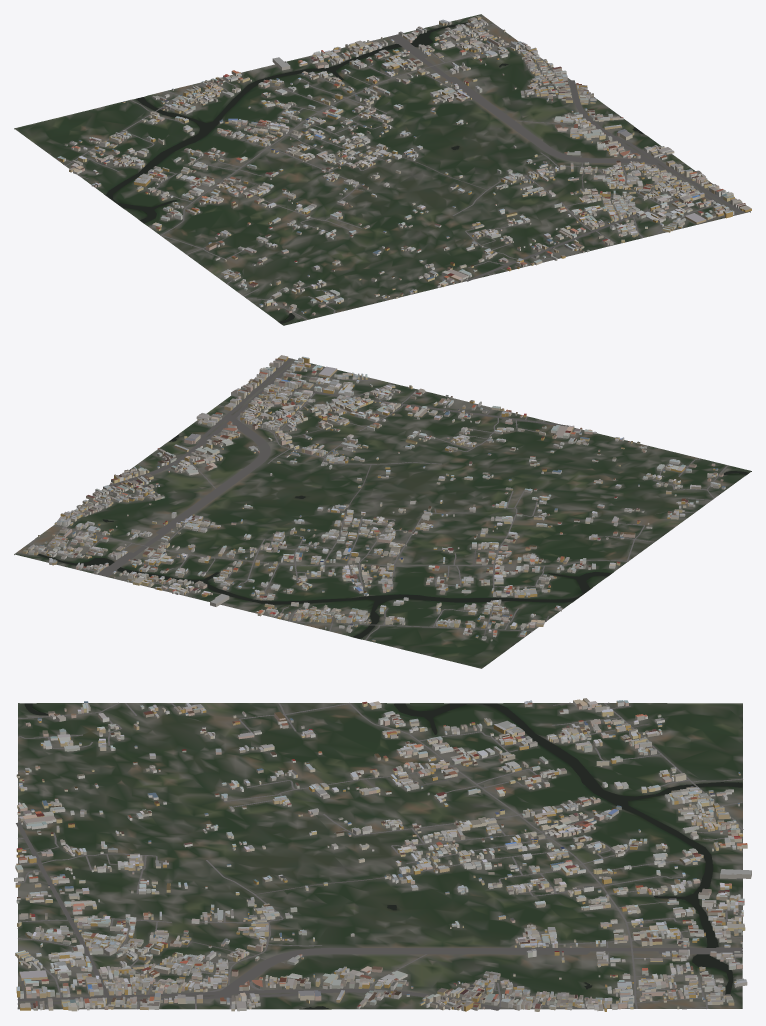
3 views of the same model, one above another, from view 1: azimuth 30°, elevation 25°; view 2: azimuth 150°, elevation 25°; view 3: azimuth 270°, elevation 25° (orthographic). The views are drawn at different scales.
Parts seen in each view (by area): view 1: ground, buildings, roads, water; view 2: ground, buildings, roads, water; view 3: ground, buildings, roads, water.
Boxes of the visible parts, left/top/right/bottom form: ground: left=14, top=14, right=750, bottom=325; buildings: left=57, top=15, right=751, bottom=315; roads: left=63, top=23, right=744, bottom=319; water: left=106, top=22, right=643, bottom=323; ground: left=14, top=358, right=751, bottom=668; buildings: left=22, top=355, right=725, bottom=641; roads: left=27, top=358, right=727, bottom=640; water: left=37, top=434, right=748, bottom=638; ground: left=17, top=703, right=742, bottom=1009; buildings: left=14, top=698, right=751, bottom=1011; roads: left=16, top=702, right=743, bottom=1010; water: left=24, top=703, right=742, bottom=1008.
Bounding box in the file's own units: 1422 × 20.16 × 1426.
